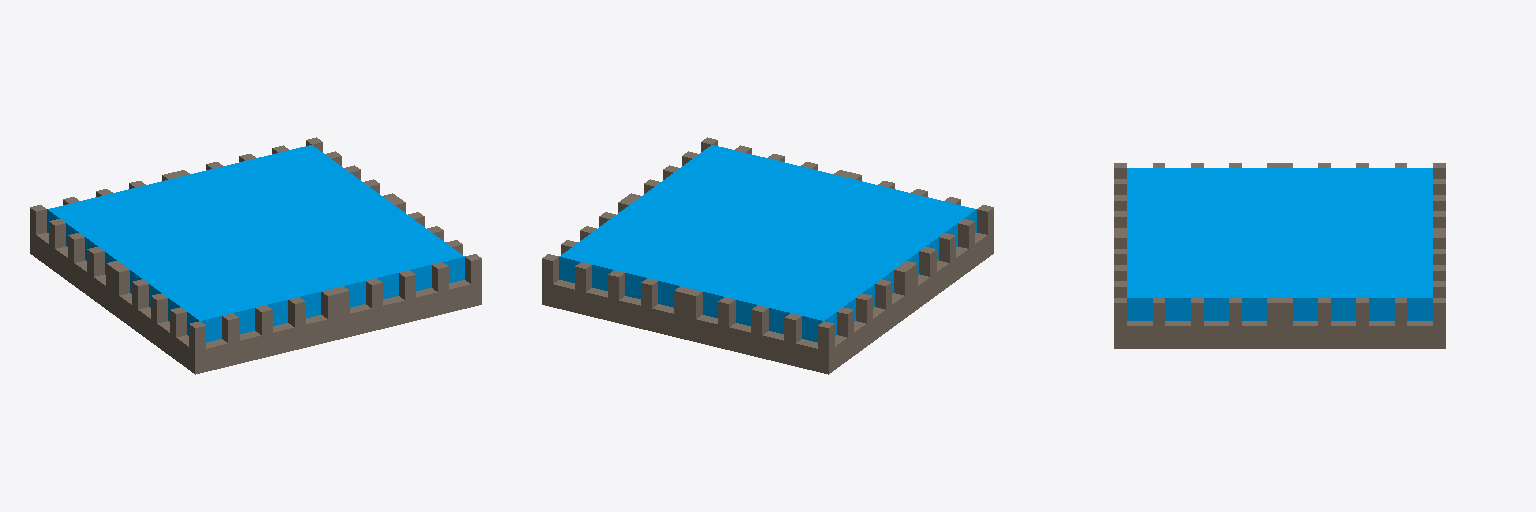
The picture shows the model from 3 angles: view 1: azimuth 30°, elevation 25°; view 2: azimuth 150°, elevation 25°; view 3: azimuth 270°, elevation 25°; orthographic projection.
Parts seen in each view (by area): view 1: object 1; view 2: object 1; view 3: object 1.
Part boxes in pixels (x1,y1,x2,y2): object 1: (30, 137, 481, 374); object 1: (542, 137, 993, 374); object 1: (1114, 163, 1445, 348).
Bounding box in the file's own units: 2.6 × 0.4 × 2.6.
1 materials, 1 textured.